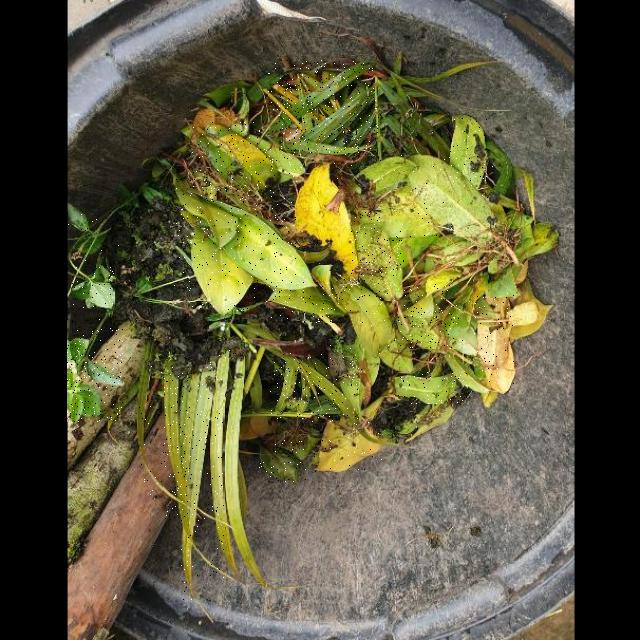biowaste: (174, 175, 317, 288), (224, 358, 266, 586), (164, 372, 221, 521), (327, 271, 411, 363), (408, 154, 498, 237), (297, 156, 359, 275), (192, 122, 304, 185), (268, 60, 373, 127), (280, 85, 379, 155), (211, 349, 239, 578), (271, 353, 359, 422), (68, 319, 123, 422), (137, 360, 177, 500), (189, 231, 256, 314), (188, 363, 216, 539), (351, 209, 404, 300), (335, 325, 383, 416), (398, 283, 464, 348), (332, 153, 421, 199), (314, 415, 384, 471), (474, 293, 514, 390), (266, 283, 347, 323), (68, 206, 120, 267), (379, 190, 445, 238), (449, 115, 487, 185), (71, 252, 114, 308), (395, 372, 468, 403), (259, 438, 307, 483), (182, 526, 198, 603)
